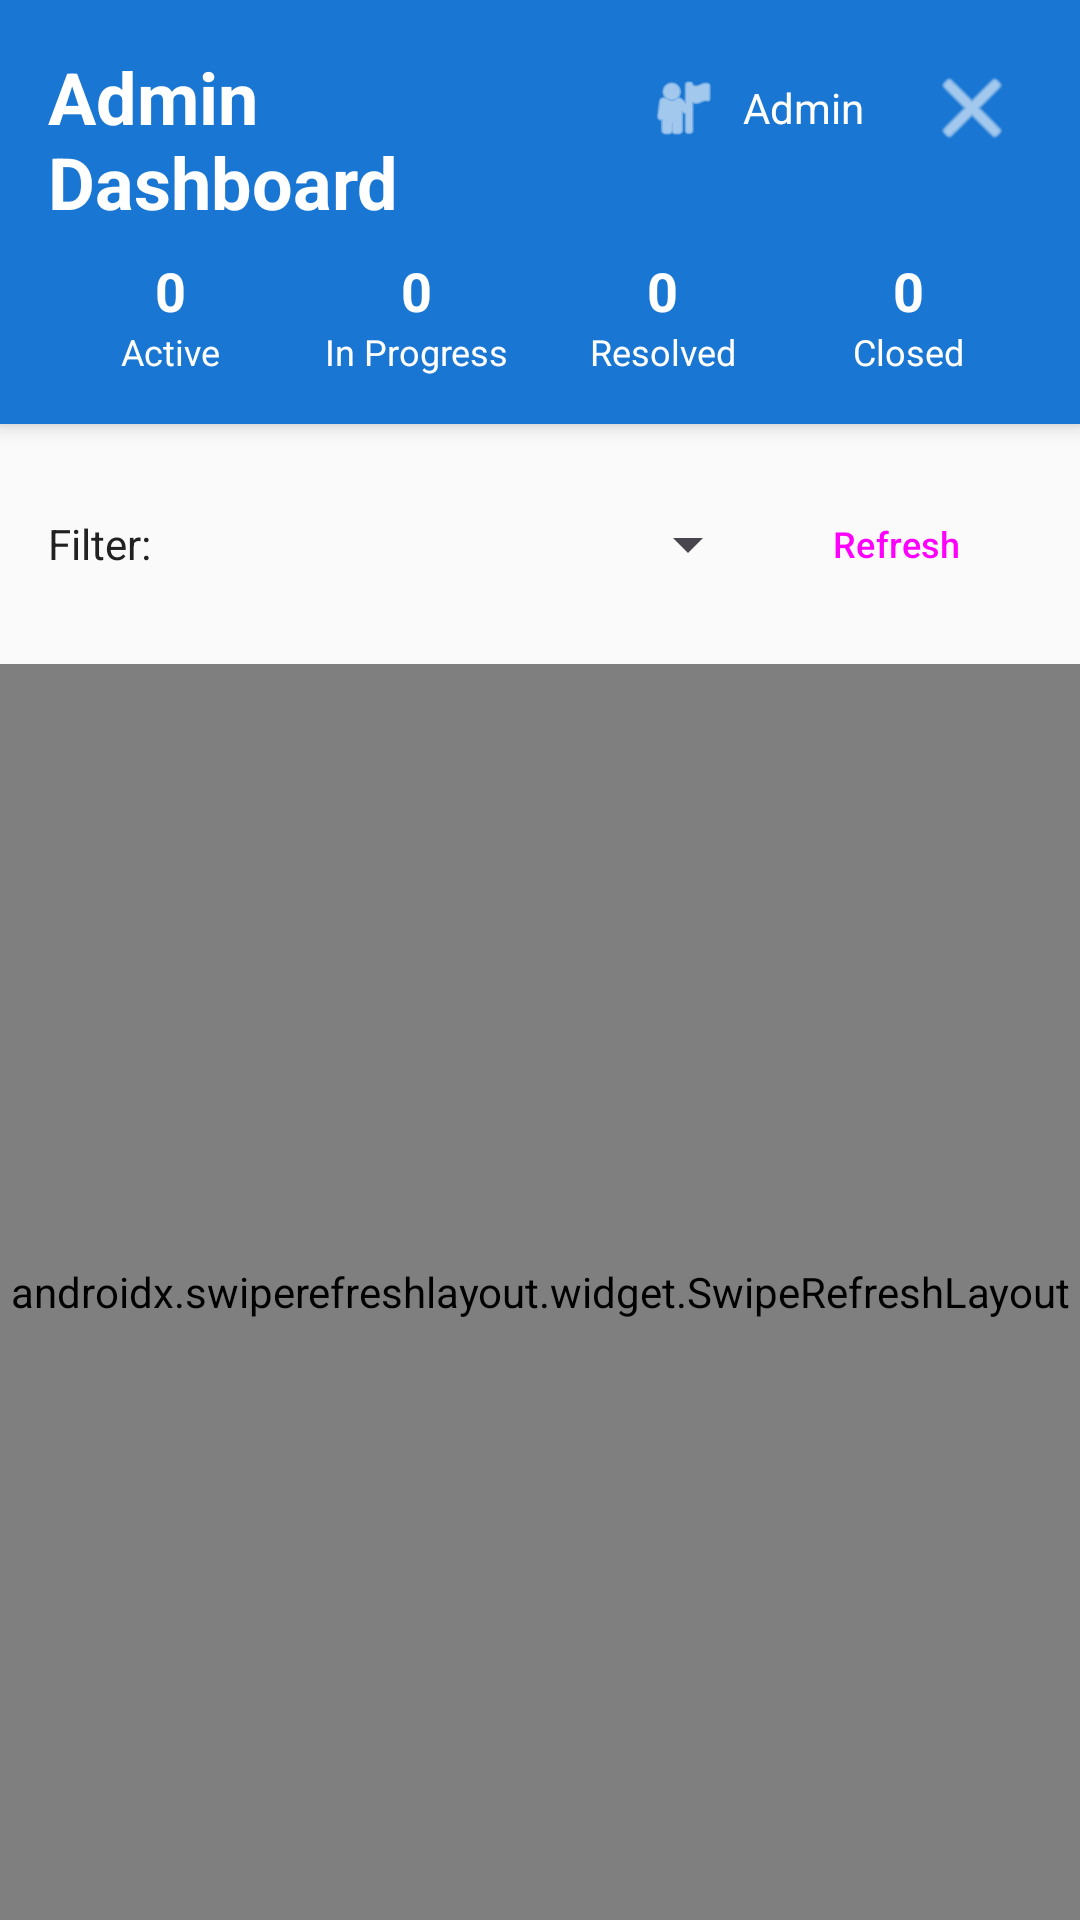

Named icons in this screenshot (1080*1920) and their bounding boxes, (x1,y1,x2,y2):
myplaces: (657,81,711,135)
